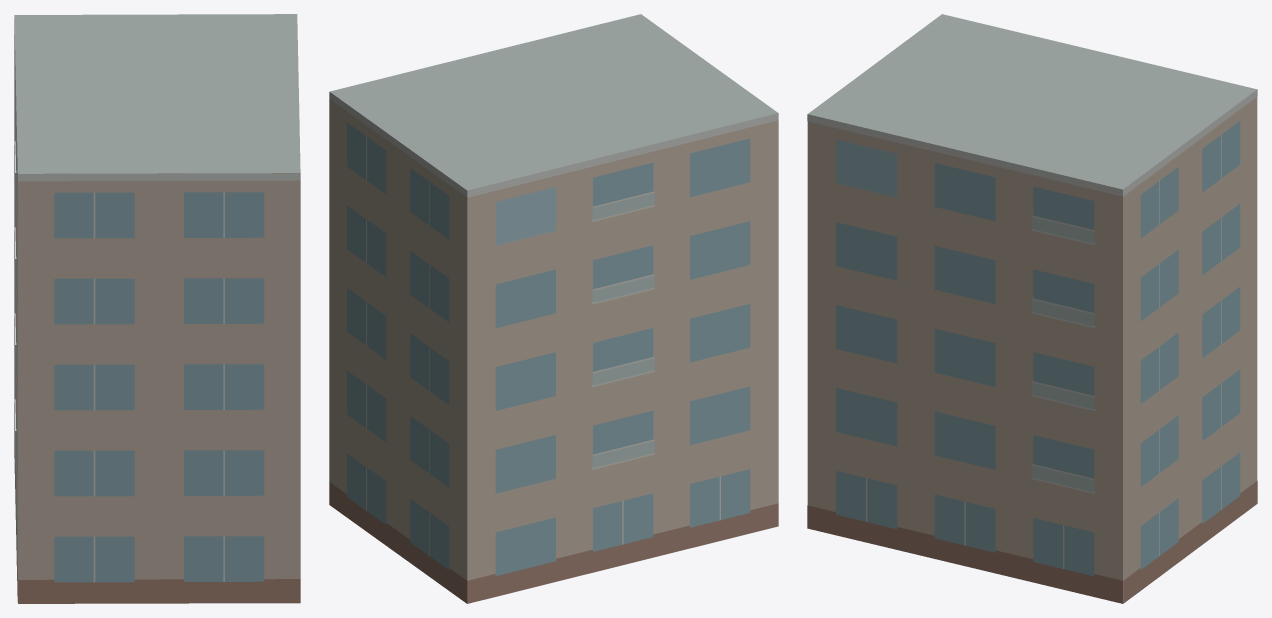
File: survey-upis-32689283.glb
The picture shows the model from 3 angles, left to right: view 1: azimuth 30°, elevation 25°; view 2: azimuth 150°, elevation 25°; view 3: azimuth 270°, elevation 25°; orthographic projection. The views are drawn at different scales.
Parts seen in each view (by area): view 1: survey-upis-32689283.tmp; view 2: survey-upis-32689283.tmp; view 3: survey-upis-32689283.tmp.
Part boxes in pixels (bbox=[...]): survey-upis-32689283.tmp: bbox=[14, 14, 300, 603]; survey-upis-32689283.tmp: bbox=[329, 14, 778, 603]; survey-upis-32689283.tmp: bbox=[807, 14, 1257, 603].
Size of the model in its own units: 12.82 by 14.1 by 13.89.
